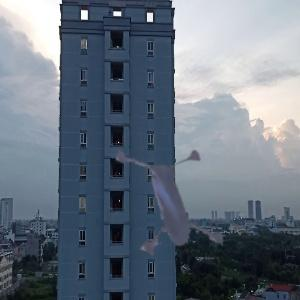drone: (72, 112, 254, 294)
